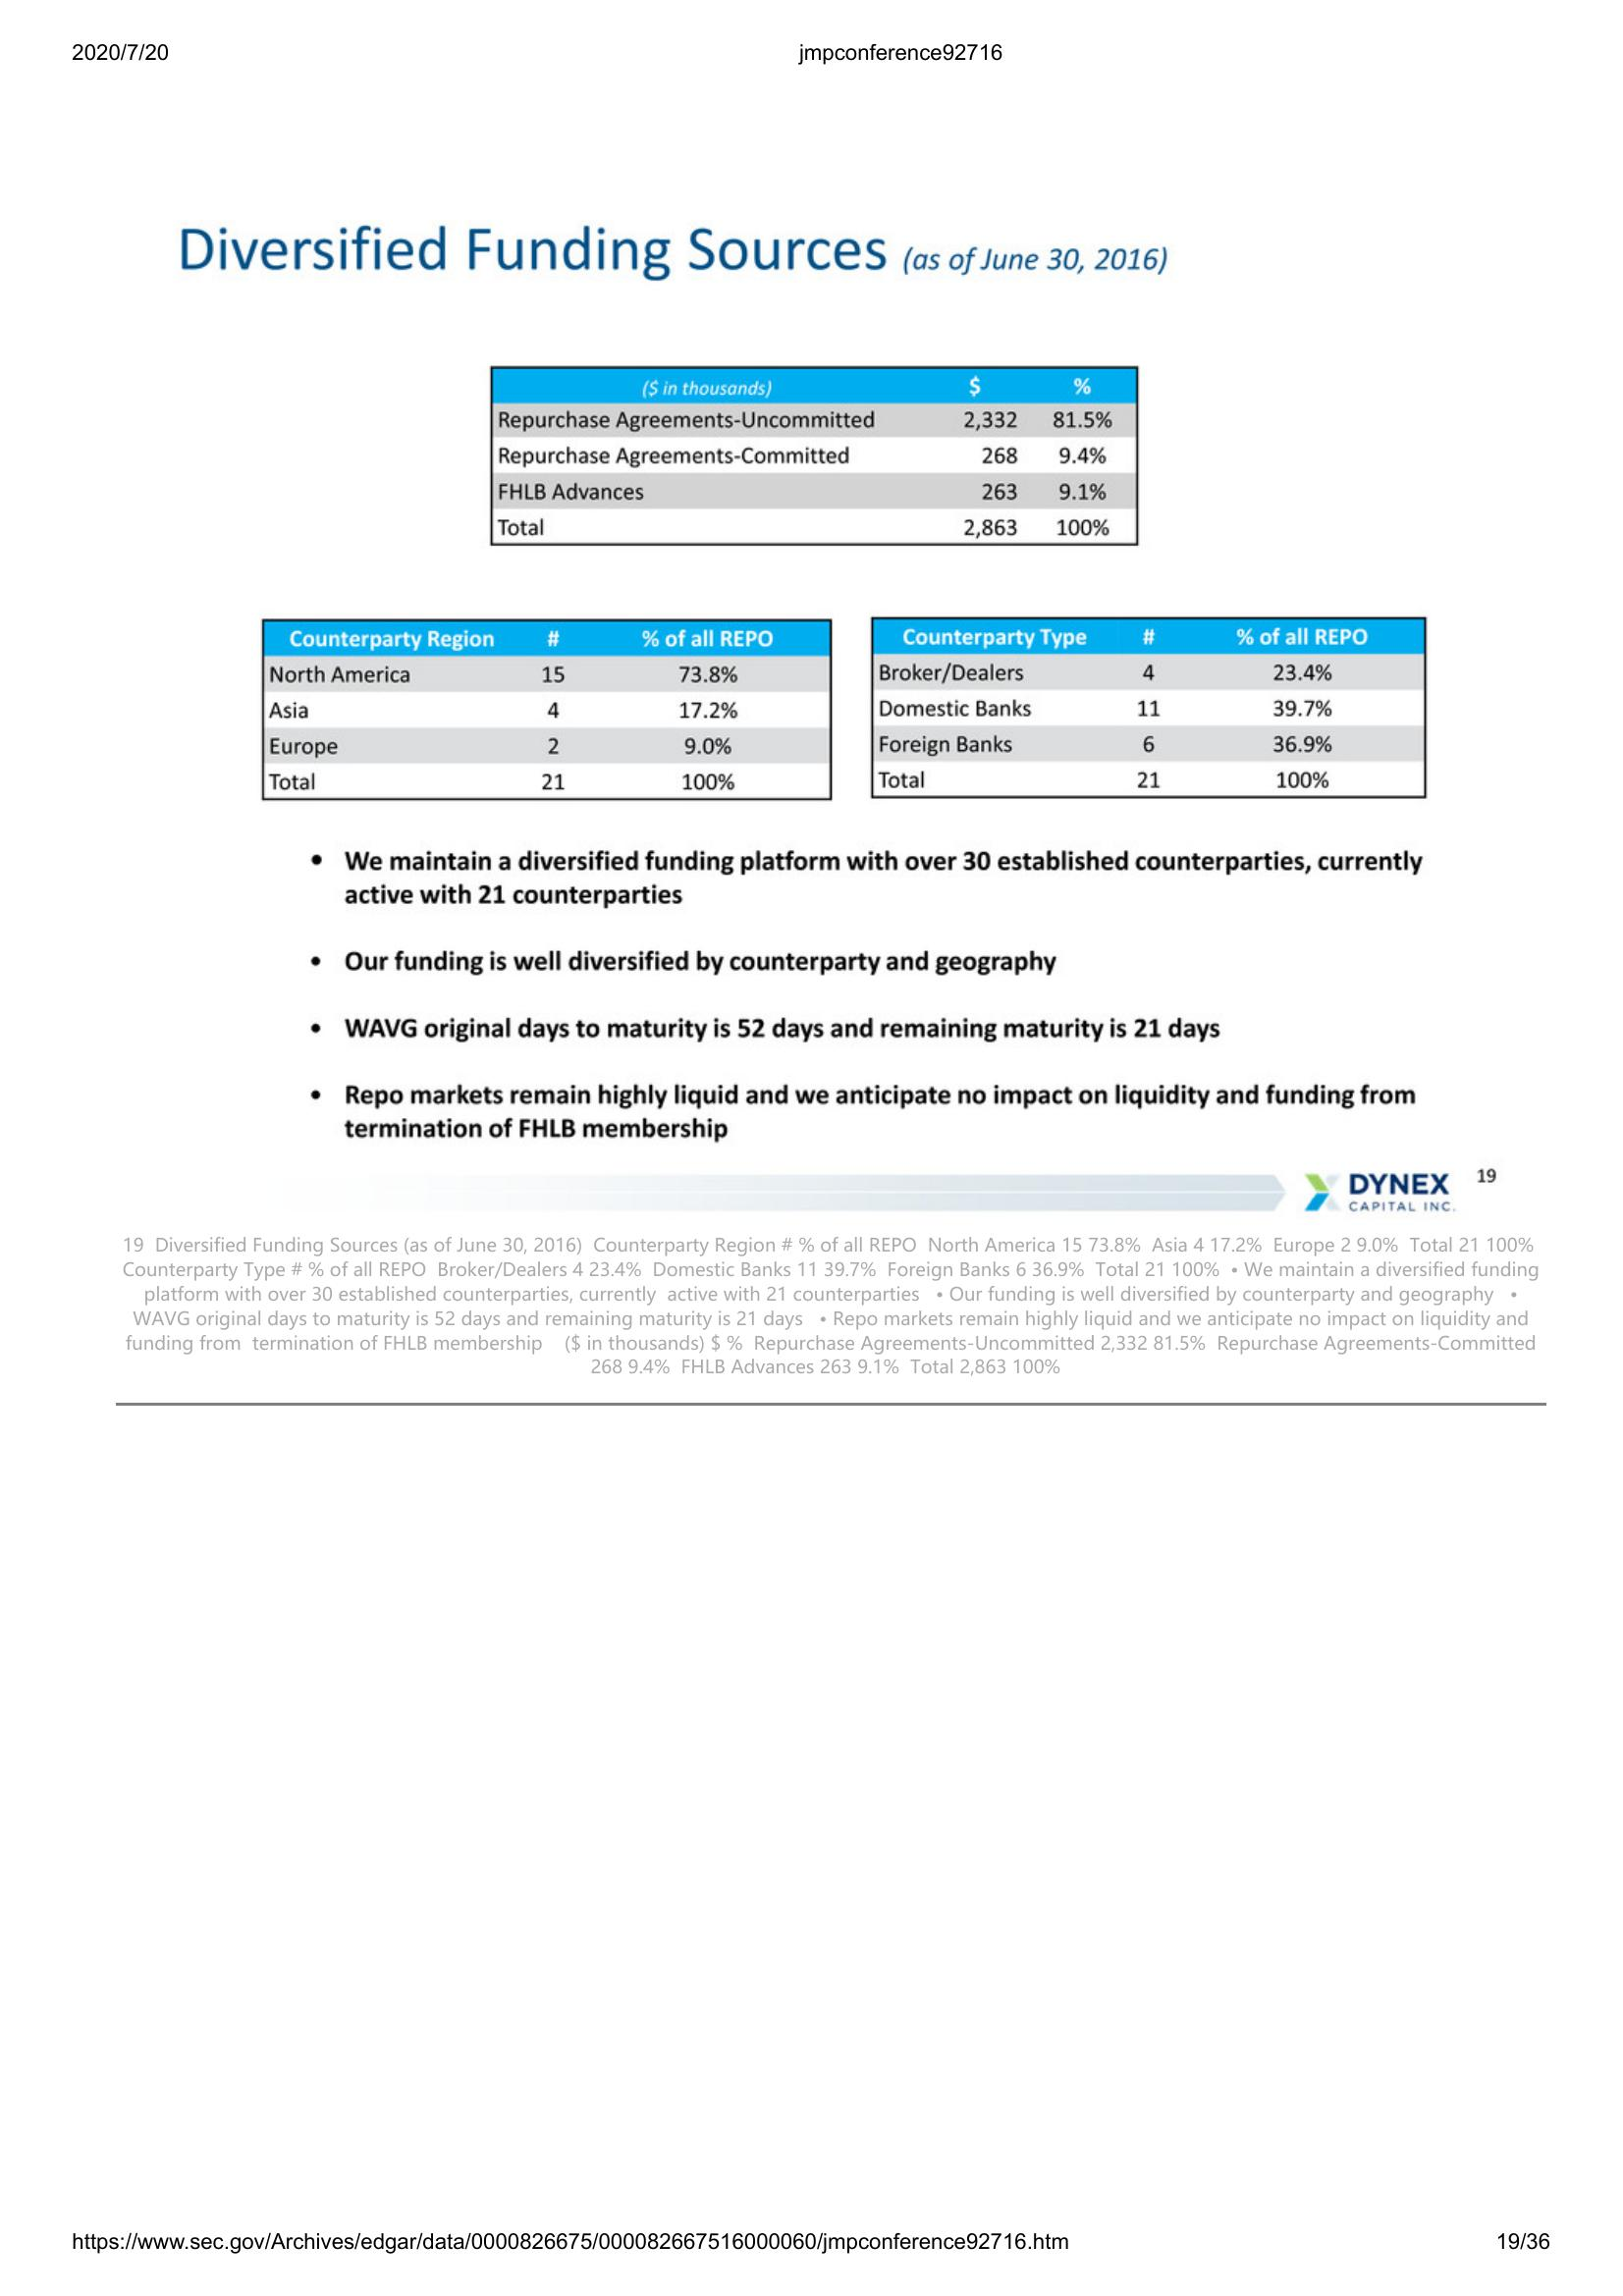table: (483, 360, 1147, 553), (256, 614, 838, 806), (864, 614, 1437, 804)
